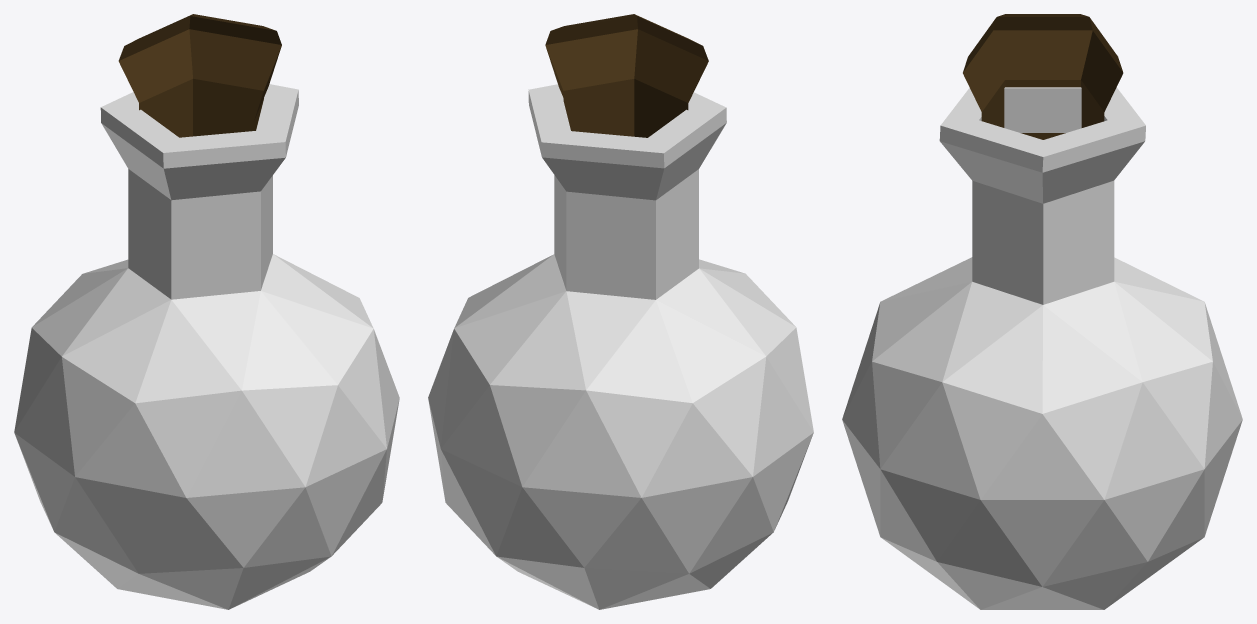
File: item_blue.fbx
3 renders of one model, left to right at view 1: azimuth 30°, elevation 25°; view 2: azimuth 150°, elevation 25°; view 3: azimuth 270°, elevation 25°, orthographic.
Visible parts, largest first — view 1: Bottle, Cap; view 2: Bottle, Cap; view 3: Bottle, Cap.
Part boxes in pixels (x1,y1,x2,y2): Bottle: [14, 84, 399, 609]; Cap: [118, 14, 281, 137]; Bottle: [428, 84, 813, 609]; Cap: [545, 14, 708, 137]; Bottle: [842, 87, 1242, 609]; Cap: [963, 14, 1123, 139].
Bounding box in the file's own units: 190 × 310 × 200.
